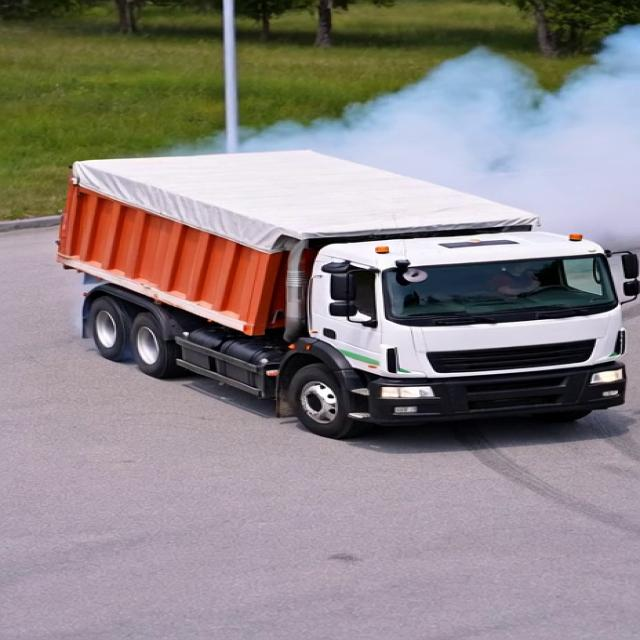trailer: (60, 150, 536, 235)
truck: (45, 119, 640, 445)
